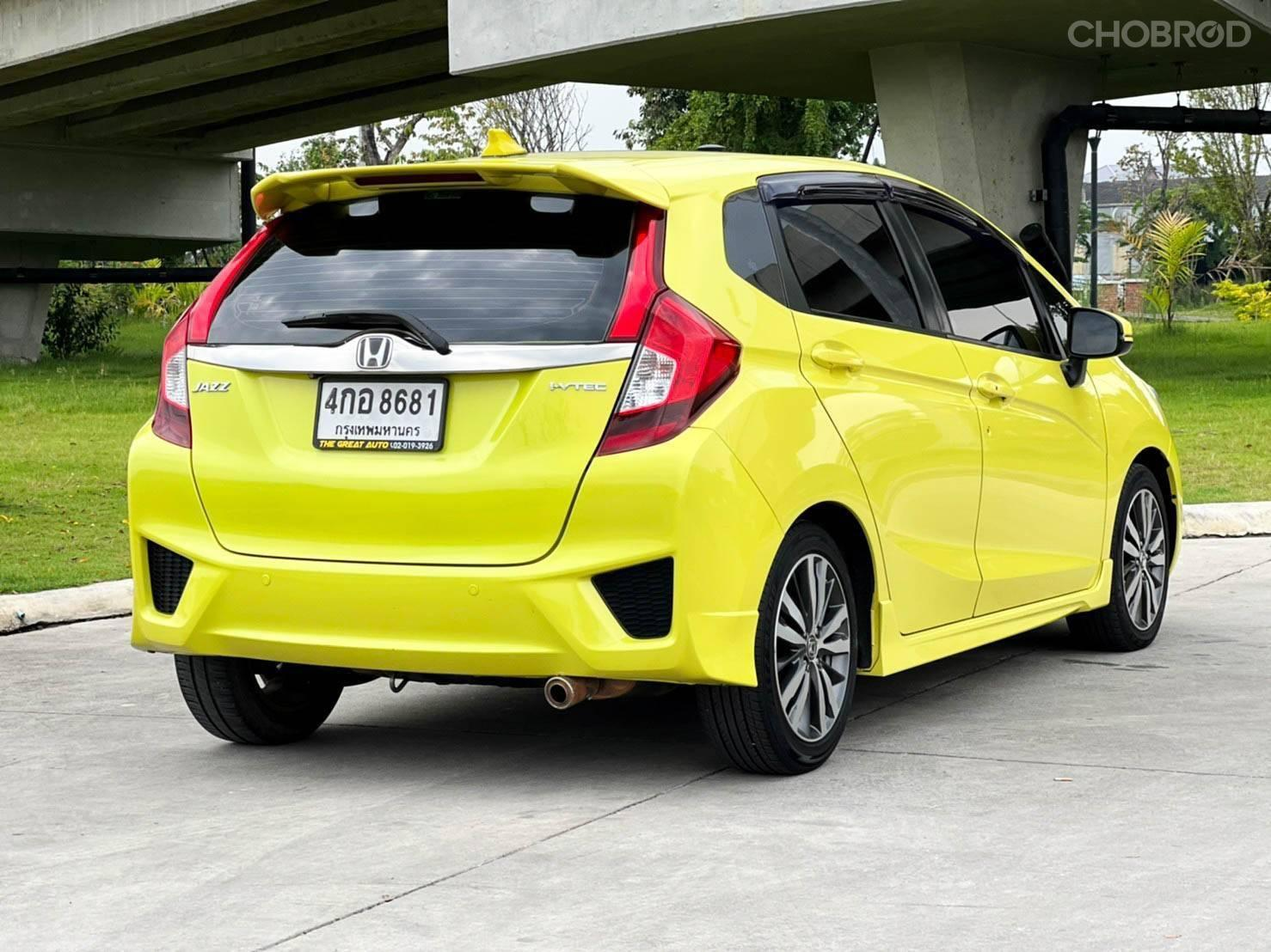license-plate: (312, 368, 453, 454)
